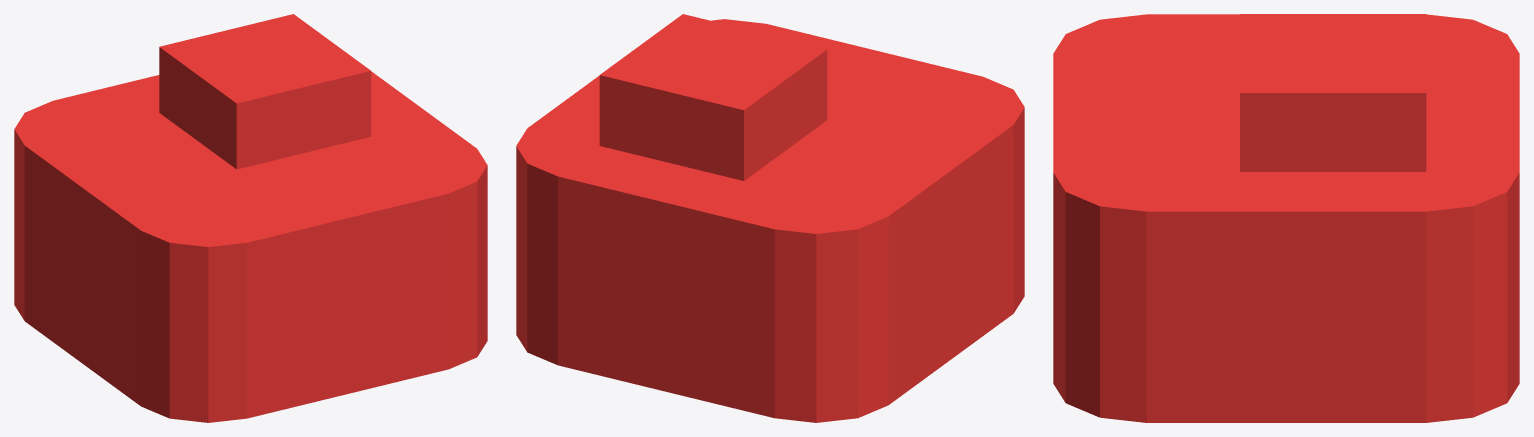
Rendered from fireStation.fbx.
The picture shows the model from 3 angles, left to right: view 1: azimuth 30°, elevation 25°; view 2: azimuth 150°, elevation 25°; view 3: azimuth 270°, elevation 25°; orthographic projection. The views are drawn at different scales.
Visible parts, largest first — view 1: Cube; view 2: Cube; view 3: Cube.
Boxes of the visible parts, x1,y1,x2,y2 form: Cube: (14, 14, 487, 422); Cube: (516, 14, 1024, 422); Cube: (1053, 14, 1519, 422).
Bounding box in the file's own units: 160 × 110 × 160.
